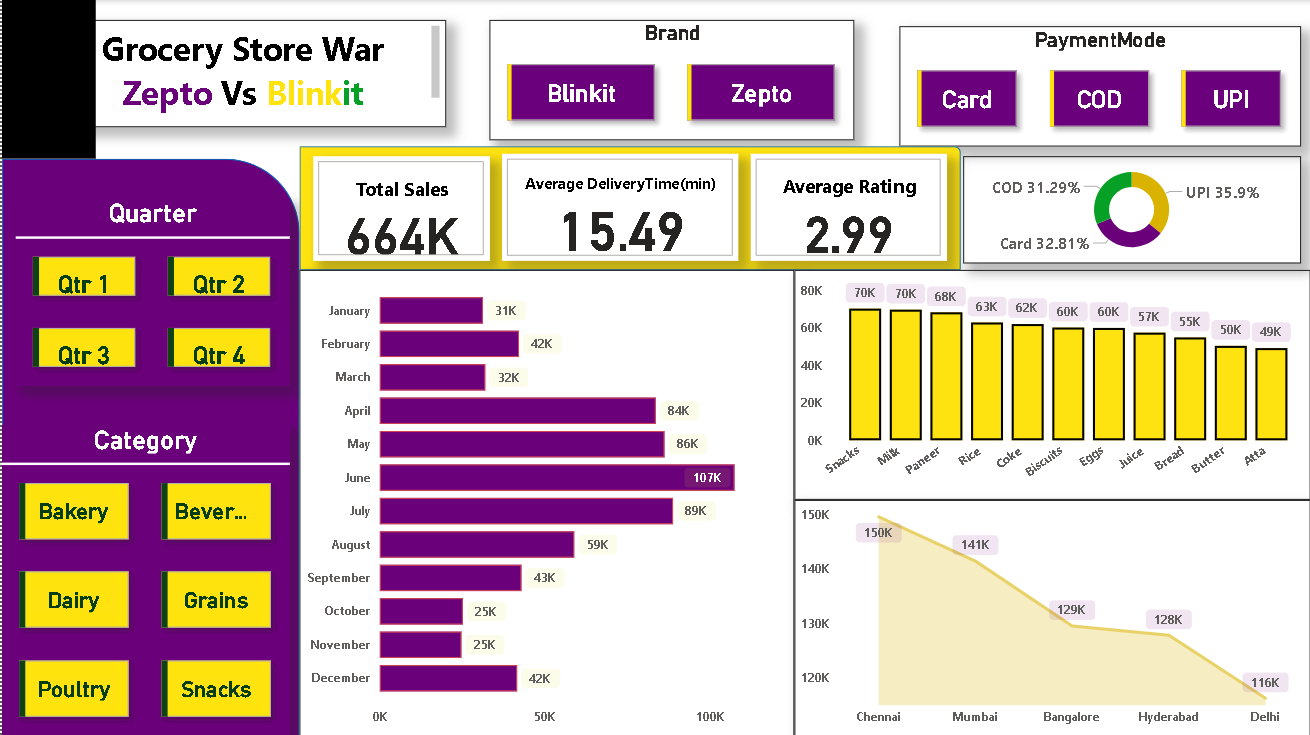

What the dashboard file says about the page in this screenshot:
{"tool":"powerbi","page":{"name":"Page 1","canvas":[1280,720],"ordinal":0},"visuals":[{"type":"textbox","box":[46.5,19.6,387.6,105.2],"z":0},{"type":"shape","box":[0,155.3,291,564.9],"z":1000},{"type":"shape","box":[0,0,91.7,155.3],"z":2000},{"type":"advancedSlicerVisual","fields":{"Values":["Table2.Brand"]},"box":[476.9,19.6,357.1,117.4],"z":3000},{"type":"advancedSlicerVisual","fields":{"Values":["Table2.PaymentMode"]},"box":[878,25.7,392.5,117.4],"z":4000},{"type":"advancedSlicerVisual","fields":{"Values":["Table2.Date.Variation.Date Hierarchy.Quarter"]},"box":[13.5,194.4,267.8,183.4],"z":5000},{"type":"advancedSlicerVisual","fields":{"Values":["Table2.Category"]},"box":[0,415.8,281.3,304.5],"z":6000},{"type":"shape","box":[291,143.1,646.9,121.1],"z":7000},{"type":"cardVisual","fields":{"Data":["Sum(Table2.Amount)"]},"box":[304.5,152.9,172.4,102.7],"z":8000},{"type":"cardVisual","fields":{"Data":["Avg(Table2.DeliveryTime(min))"]},"box":[489.1,150.4,231.1,105.2],"z":9000},{"type":"cardVisual","fields":{"Data":["Avg(Table2.Rating)"]},"box":[732.5,150.4,192,105.2],"z":10000},{"type":"clusteredBarChart","fields":{"Category":["Table2.Date.Variation.Date Hierarchy.Month"],"Y":["Sum(Table2.Amount)"]},"box":[291,264.1,484.2,456.1],"z":11000},{"type":"columnChart","fields":{"Category":["Table2.Product"],"Y":["Sum(Table2.Amount)"]},"box":[775.3,264.1,505,225],"z":12000},{"type":"areaChart","fields":{"Category":["Table2.City"],"Y":["Sum(Table2.Amount)"]},"box":[775.3,489.1,505,231.1],"z":13000},{"type":"donutChart","fields":{"Category":["Table2.PaymentMode"],"Y":["Sum(Table2.Amount)"]},"box":[940.4,152.9,330.2,105.2],"z":14000}]}

Visuals, with their boxes in screenshot pixels (x1, y1, x2, y2), scaled from the page's 1280x720 canvas onto the 1310x735 screenshot:
textbox: (48, 20, 444, 127)
shape: (0, 159, 298, 734)
shape: (0, 0, 94, 159)
advancedSlicerVisual - Table2.Brand: (488, 20, 854, 140)
advancedSlicerVisual - Table2.PaymentMode: (899, 26, 1300, 146)
advancedSlicerVisual - Table2.Date.Variation.Date Hierarchy.Quarter: (14, 198, 288, 386)
advancedSlicerVisual - Table2.Category: (0, 424, 288, 734)
shape: (298, 146, 960, 270)
cardVisual - Sum(Table2.Amount): (312, 156, 488, 261)
cardVisual - Avg(Table2.DeliveryTime(min)): (501, 154, 737, 261)
cardVisual - Avg(Table2.Rating): (750, 154, 946, 261)
clusteredBarChart - Table2.Date.Variation.Date Hierarchy.Month x Sum(Table2.Amount): (298, 270, 793, 734)
columnChart - Table2.Product x Sum(Table2.Amount): (793, 270, 1309, 499)
areaChart - Table2.City x Sum(Table2.Amount): (793, 499, 1309, 734)
donutChart - Table2.PaymentMode x Sum(Table2.Amount): (962, 156, 1300, 263)
